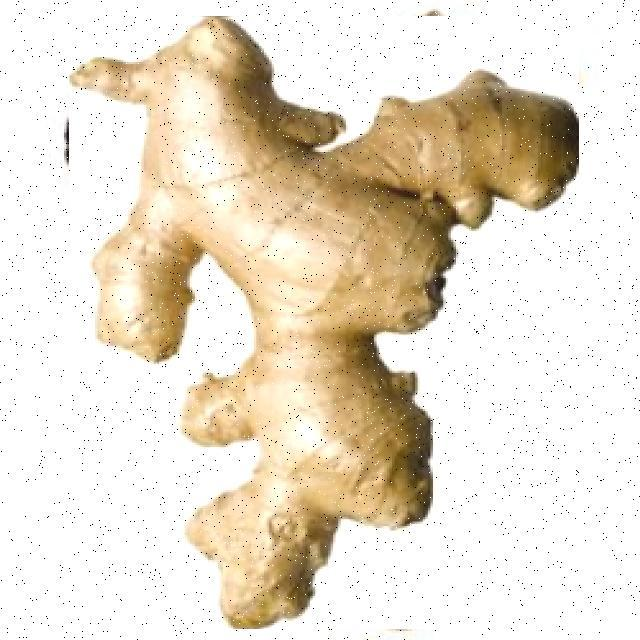ginger: (68, 16, 578, 628)
